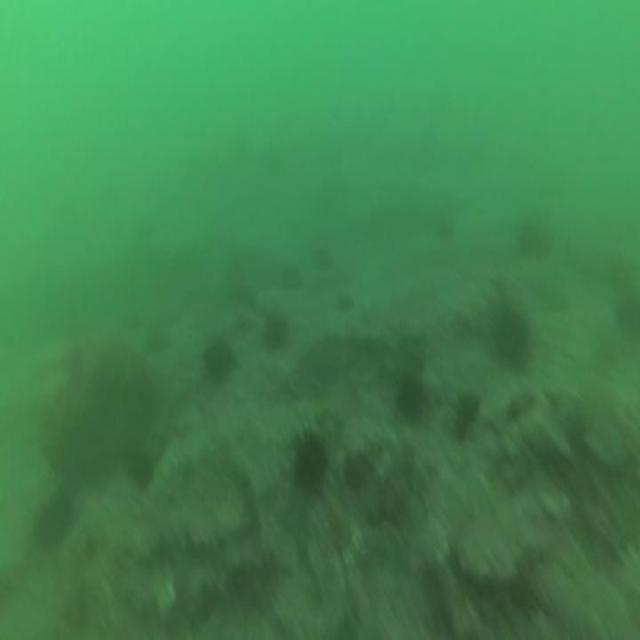echinus: (492, 310, 526, 363), (294, 435, 324, 485), (204, 342, 233, 382), (519, 222, 547, 258), (398, 376, 422, 416), (454, 392, 476, 433), (264, 314, 287, 344)
